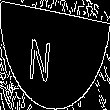N_N: (42, 27, 68, 83)
